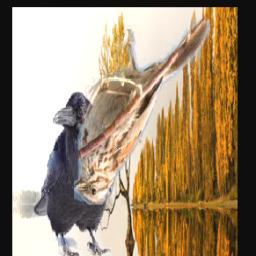Crow: (32, 88, 113, 256)
Sparrow: (73, 17, 209, 206)
